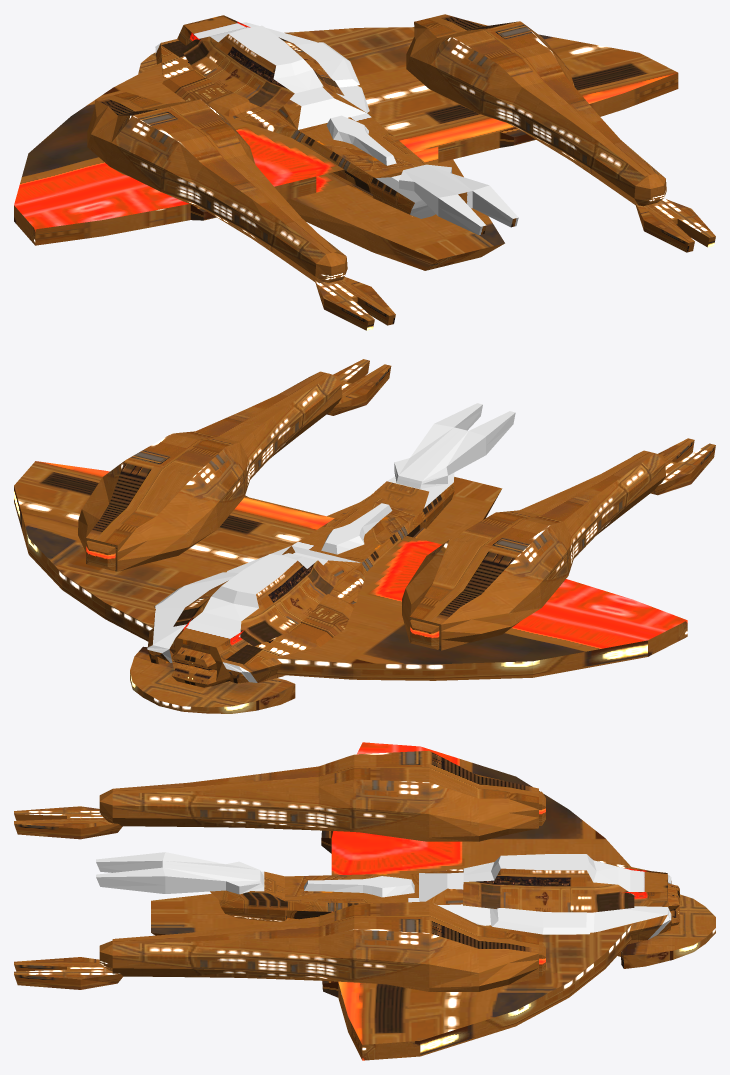
Rendered from Car_Brinok.fbx.
The picture shows the model from 3 angles, top to bottom: view 1: azimuth 30°, elevation 25°; view 2: azimuth 150°, elevation 25°; view 3: azimuth 270°, elevation 25°; orthographic projection. The views are drawn at different scales.
Visible parts, largest first — view 1: Car_Brinok; view 2: Car_Brinok; view 3: Car_Brinok.
Part boxes in pixels (x1,y1,x2,y2): Car_Brinok: [14, 14, 715, 330]; Car_Brinok: [14, 359, 715, 713]; Car_Brinok: [14, 742, 715, 1060].
Bounding box in the file's own units: 715 × 134 × 701.
Materials: 1 (1 with a texture image).
